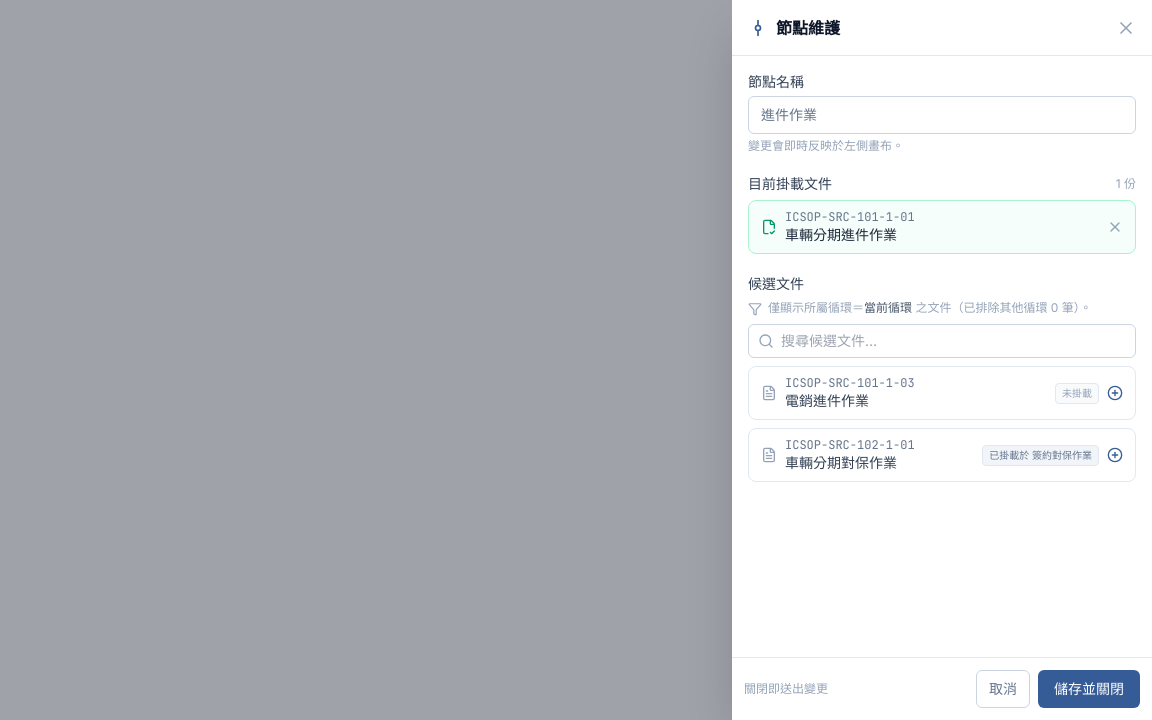
Test case: NodeDrawer — F009 節點抽屜（文件掛載） › 有未確認改派警示時阻擋儲存
The image size is (1152, 720).
Click the text "ICSOP-SRC-102-1-01": click(850, 445) [785, 437, 915, 453]
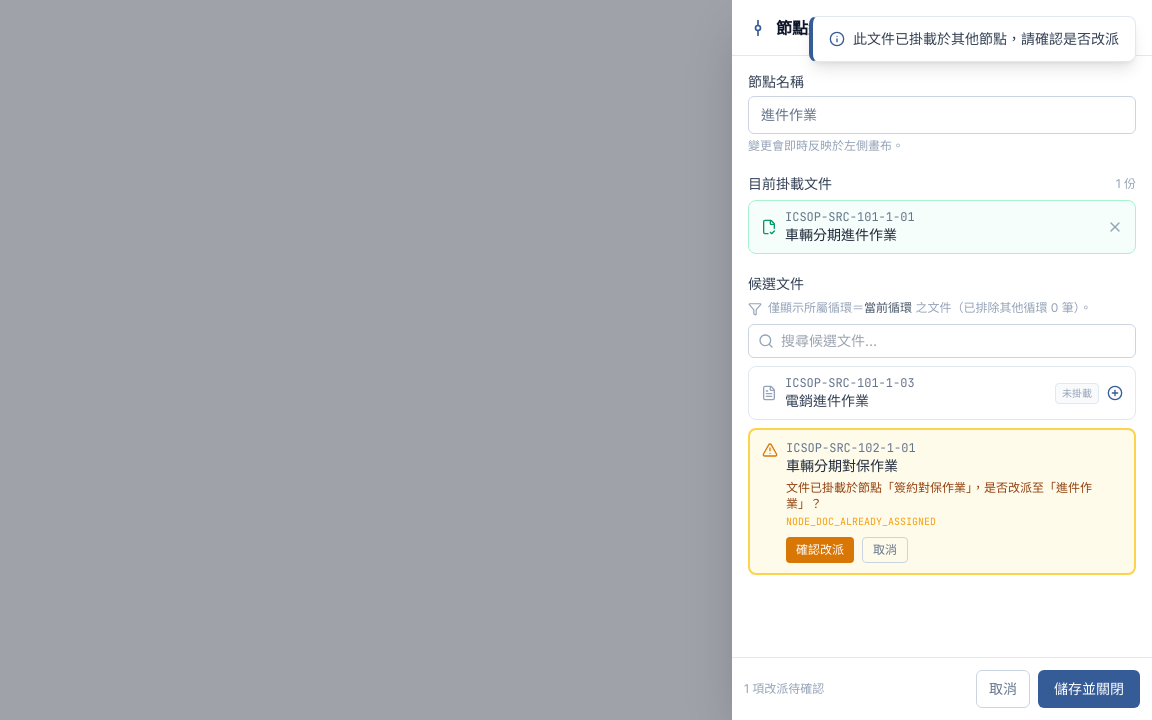
Click the button "儲存並關閉": click(1089, 689) [1038, 670, 1140, 708]
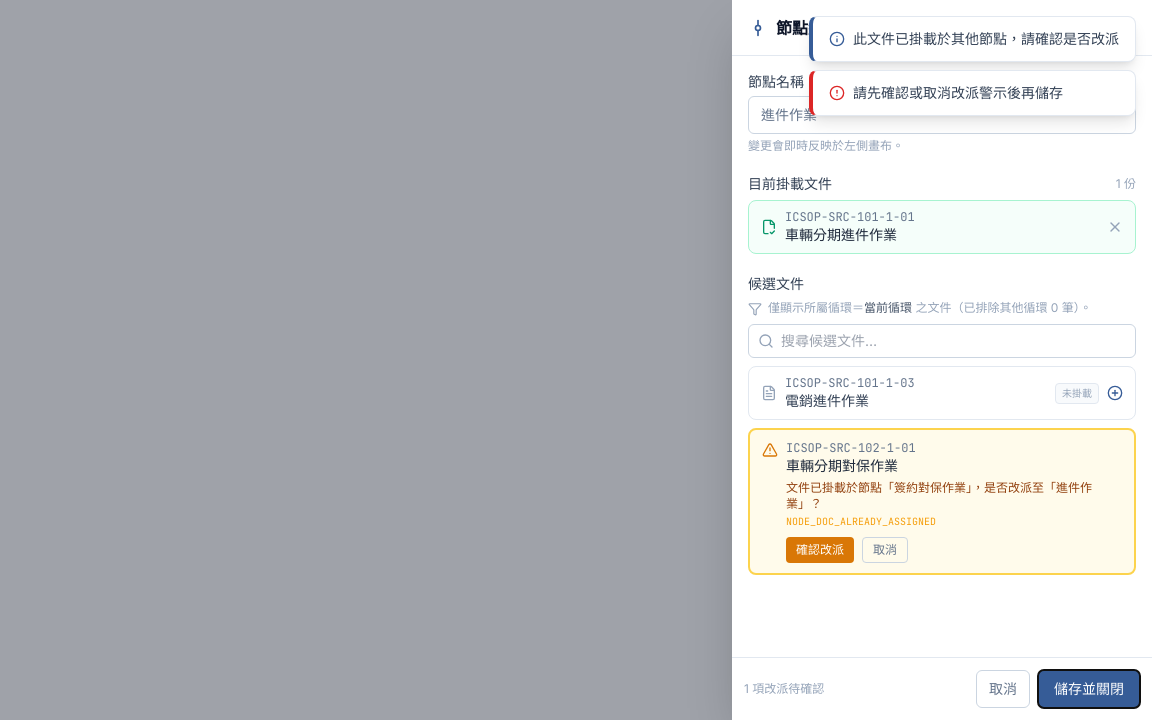
Now the text "請先確認或取消改派警示後再儲存" is shown, box [853, 83, 1063, 103]
